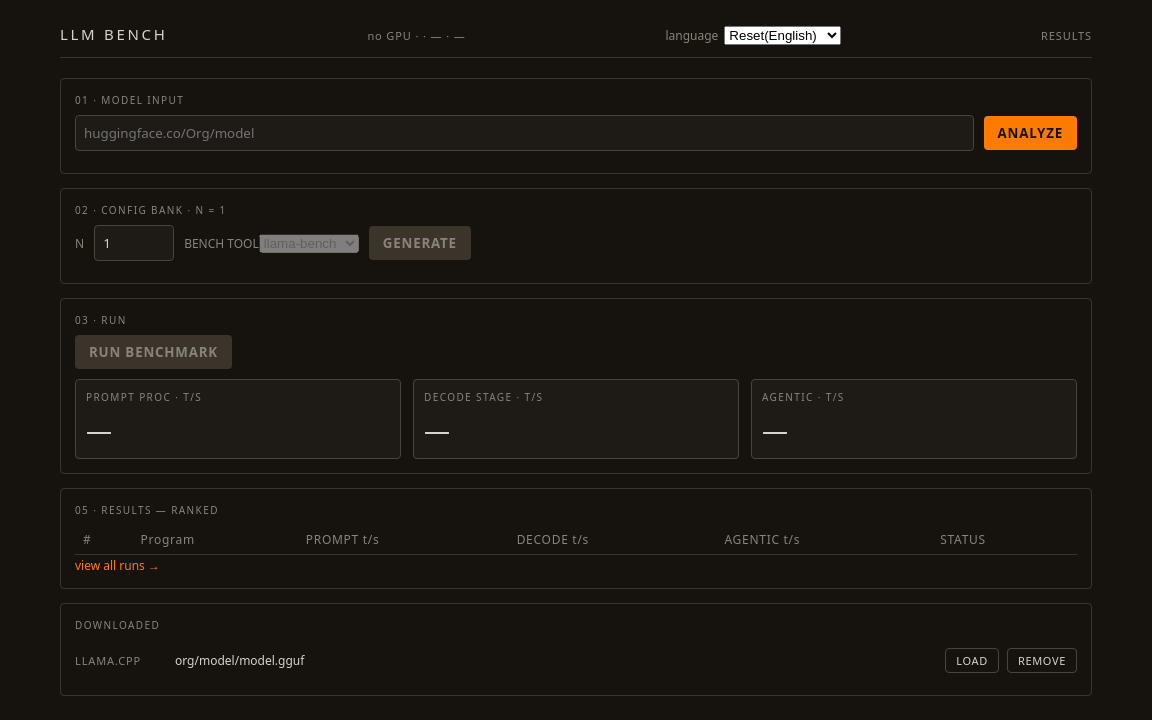
Test case: successful run shows initial progress label
Type "org/model" into the field with placeholder "huggingface.co/Org/model" at (524, 133), box 75,115 -> 974,151
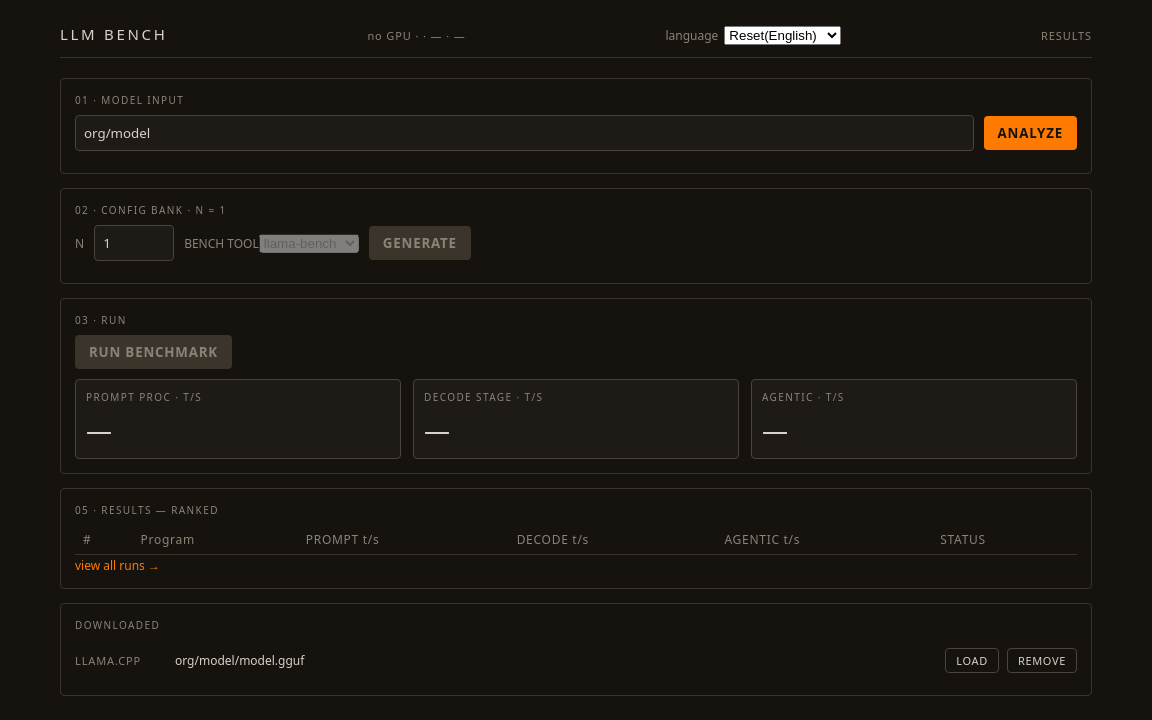
Click the button "ANALYZE" at (1030, 133), box 984,116 -> 1077,150
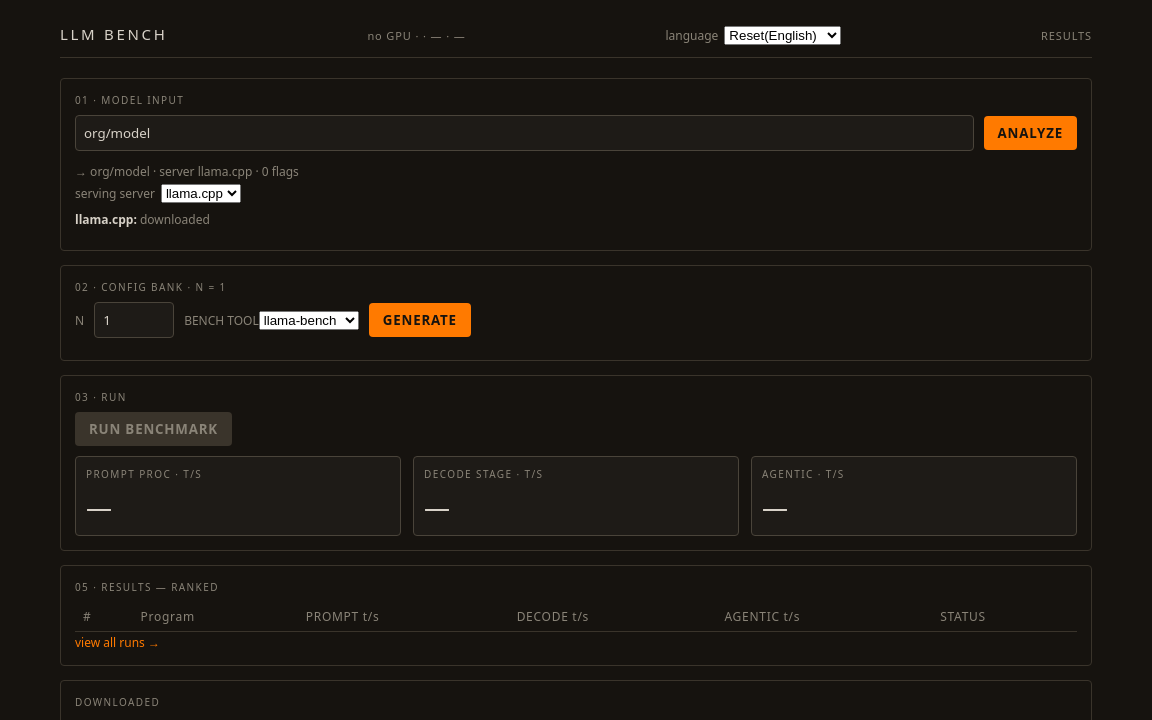
Now the text "→ org/model · server llama.cpp · 0 flags" is shown, box 75,163 -> 299,180
Click the button "GENERATE" at (420, 320), box 369,303 -> 471,337
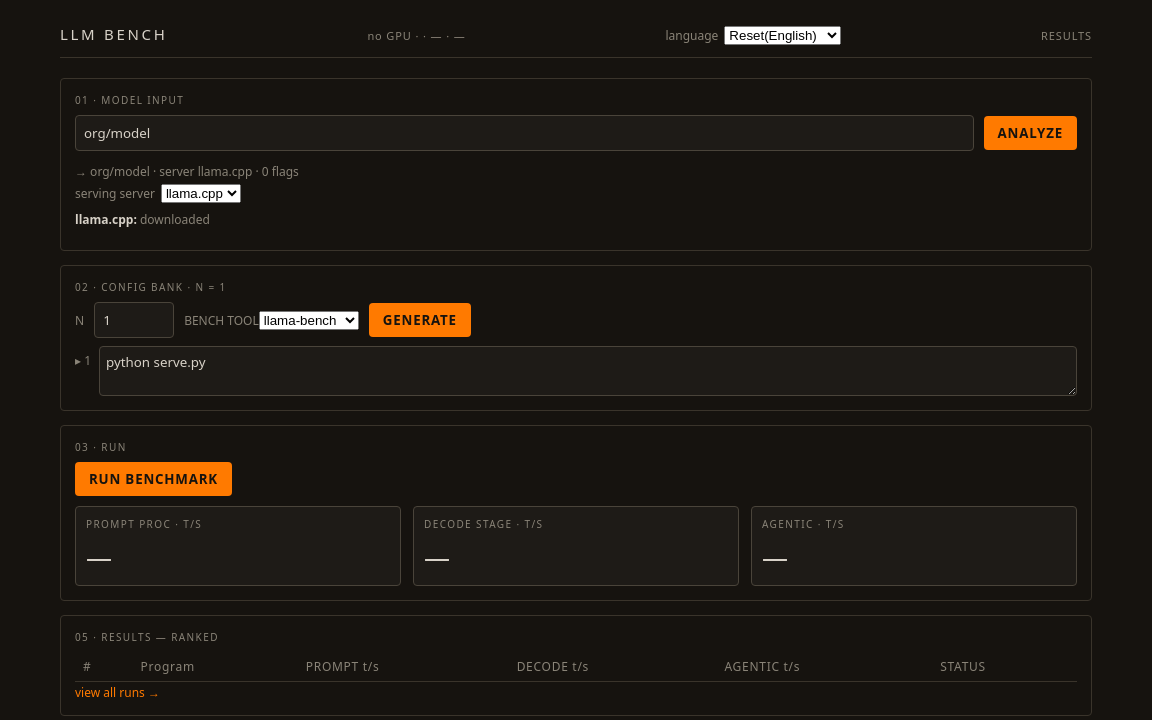
Now the text box "python serve" is shown, box 99,346 -> 1077,396
Click the button "RUN BENCHMARK" at (153, 479), box 75,462 -> 232,496
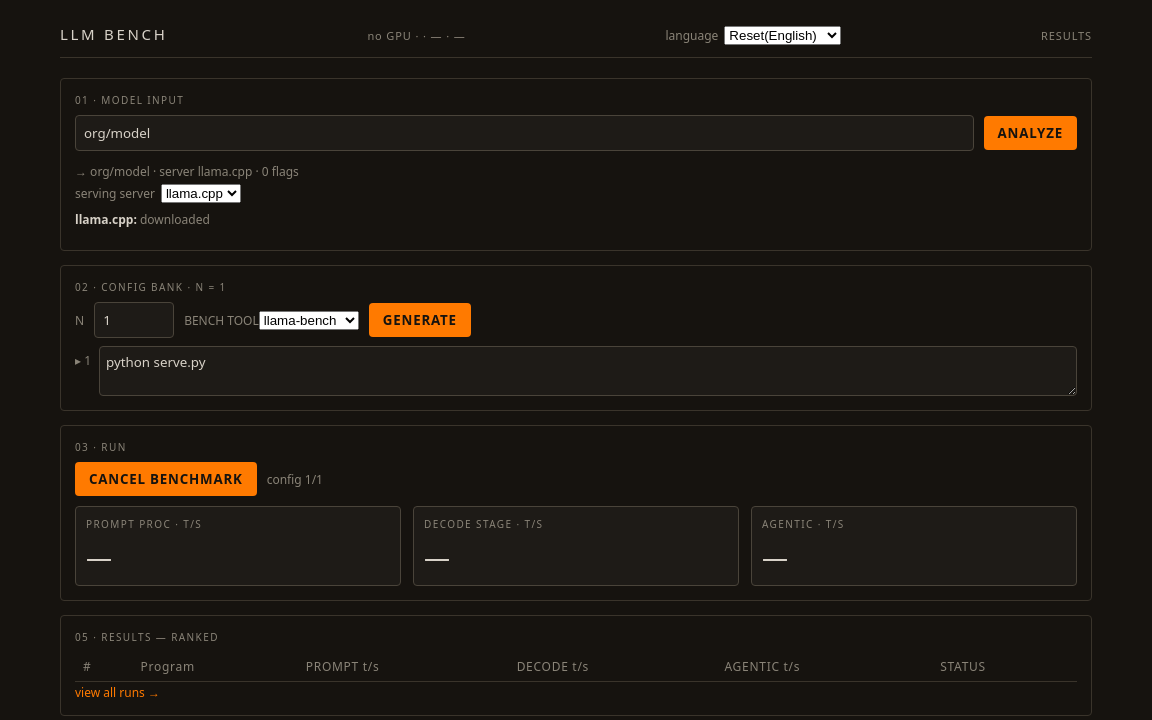
Now the text "config 1/1" is shown, box 267,470 -> 323,488
